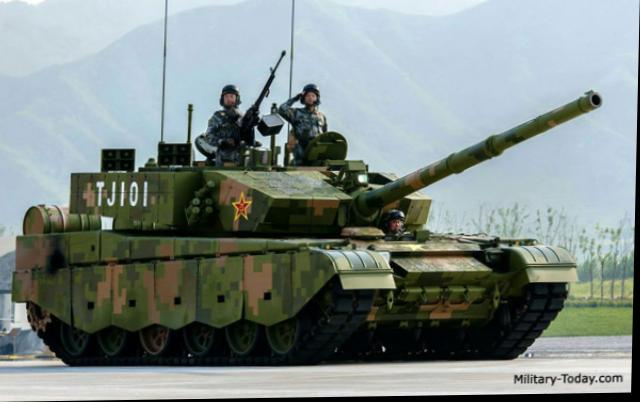other: (279, 84, 324, 140), (209, 84, 247, 149), (384, 209, 404, 233)
tank: (24, 166, 575, 360)
